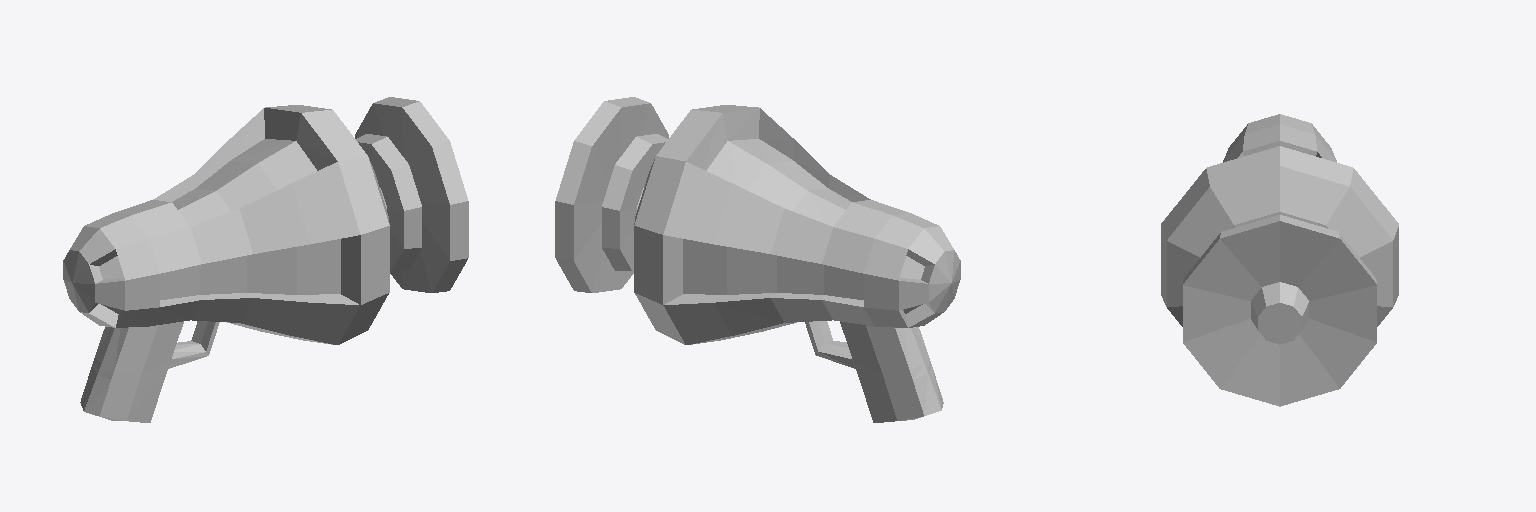
Rendered from Oinknator.obj.
3 views of the same model, side by side, from view 1: azimuth 30°, elevation 25°; view 2: azimuth 150°, elevation 25°; view 3: azimuth 270°, elevation 25° (orthographic).
Parts seen in each view (by area): view 1: Oinknator; view 2: Oinknator; view 3: Oinknator.
Part boxes in pixels (bbox=[...]): Oinknator: bbox=[63, 97, 468, 422]; Oinknator: bbox=[555, 97, 960, 422]; Oinknator: bbox=[1161, 114, 1398, 406].
Bounding box in the file's own units: 0.7312 × 0.5024 × 0.411.